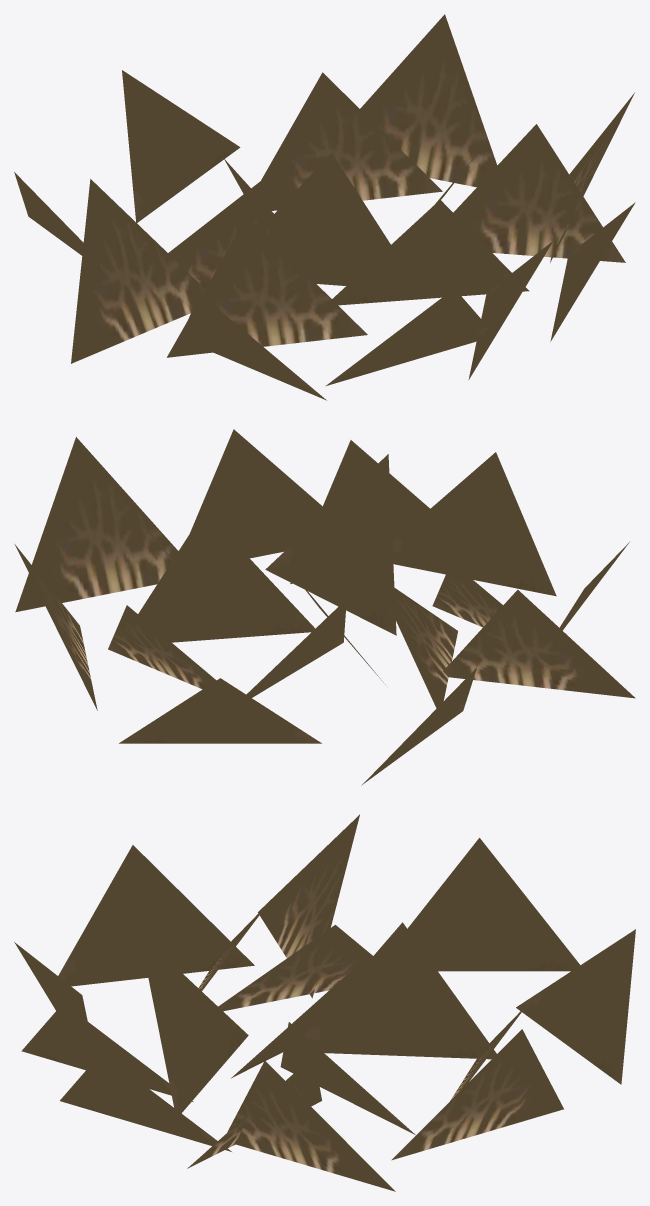
File: dec_dry_grass_05_42846.glb
The picture shows the model from 3 angles, top to bottom: view 1: azimuth 30°, elevation 25°; view 2: azimuth 150°, elevation 25°; view 3: azimuth 270°, elevation 25°; orthographic projection. The views are drawn at different scales.
Visible parts, largest first — view 1: dry_grass_05_mesh; view 2: dry_grass_05_mesh; view 3: dry_grass_05_mesh.
Part boxes in pixels (box(x1,y1,x2,y2)): dry_grass_05_mesh: box(14, 14, 635, 400); dry_grass_05_mesh: box(14, 429, 635, 785); dry_grass_05_mesh: box(14, 814, 635, 1191).
Size of the model in its own units: 1.22 by 0.2685 by 1.14.
Materials: 1 (1 with a texture image).
